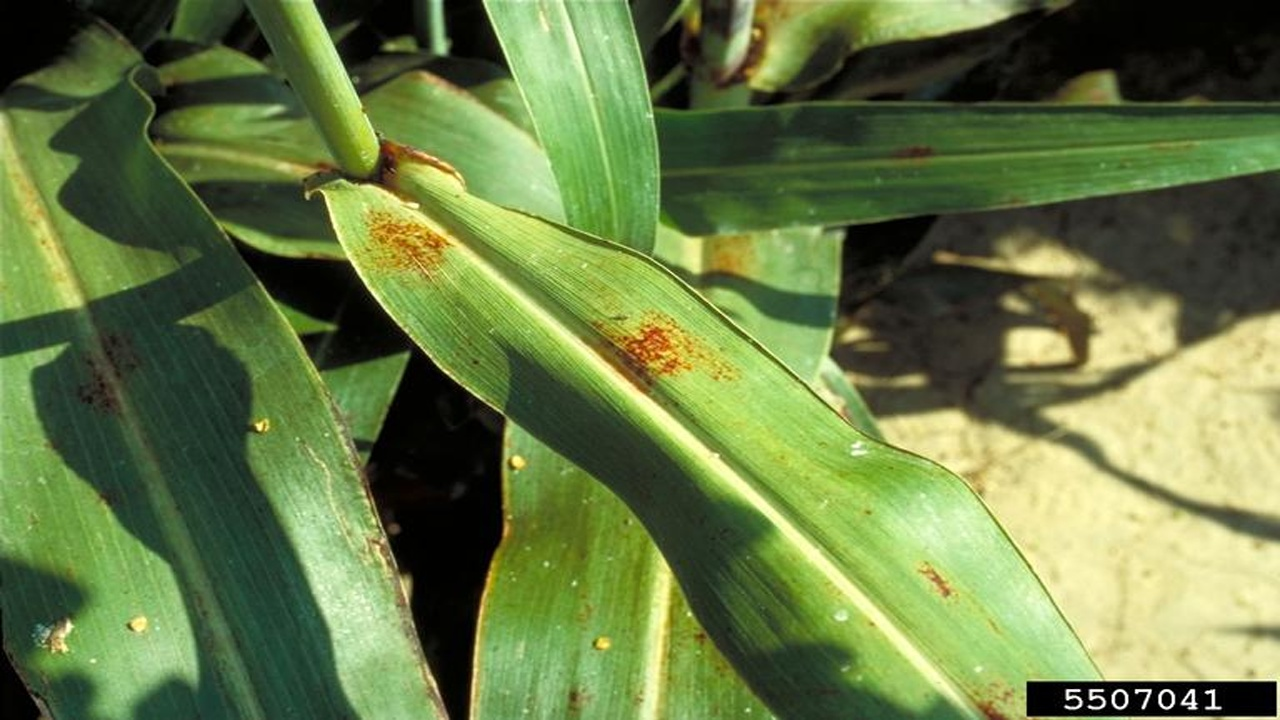leaf_rust: (334, 154, 799, 536)
